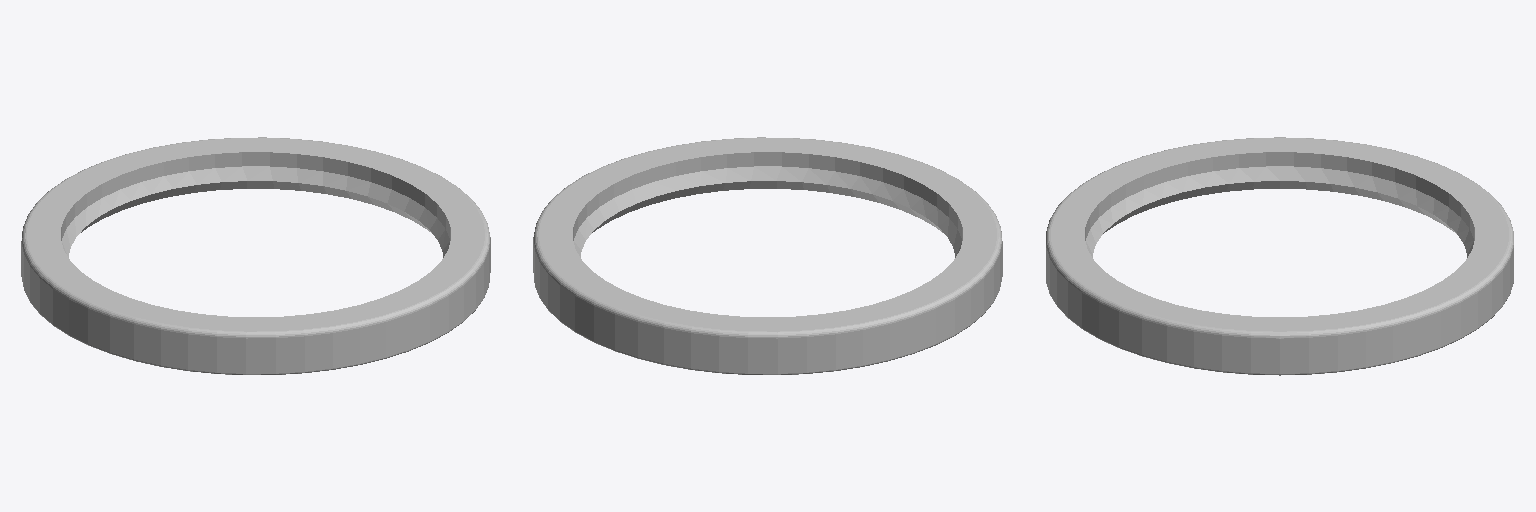
File: Сальник коленвала задний.obj
The picture shows the model from 3 angles: view 1: azimuth 30°, elevation 25°; view 2: azimuth 150°, elevation 25°; view 3: azimuth 270°, elevation 25°; orthographic projection.
Visible parts, largest first — view 1: Сальник_коленвала_задний; view 2: Сальник_коленвала_задний; view 3: Сальник_коленвала_задний.
Part boxes in pixels (x1,y1,x2,y2): Сальник_коленвала_задний: (21, 137, 490, 374); Сальник_коленвала_задний: (533, 137, 1002, 374); Сальник_коленвала_задний: (1046, 137, 1513, 375).
Bounding box in the file's own units: 100 × 10 × 99.8.